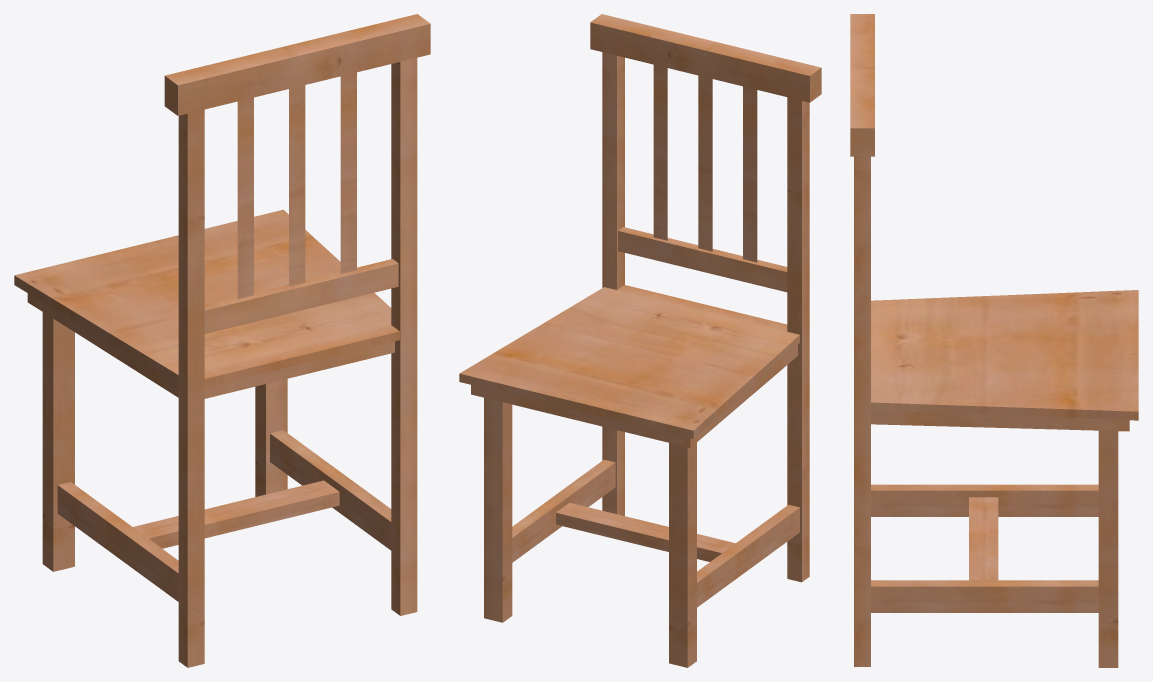
File: Chair_14.glb
3 views of the same model, side by side, from view 1: azimuth 30°, elevation 25°; view 2: azimuth 150°, elevation 25°; view 3: azimuth 270°, elevation 25° (orthographic). The views are drawn at different scales.
Visible parts, largest first — view 1: Chair_14; view 2: Chair_14; view 3: Chair_14.
Part boxes in pixels (bbox=[...]): Chair_14: bbox=[14, 14, 430, 667]; Chair_14: bbox=[459, 14, 821, 667]; Chair_14: bbox=[850, 14, 1138, 667].
Size of the model in its own units: 0.5264 by 1.1 by 0.5264.
Materials: 1 (1 with a texture image).
